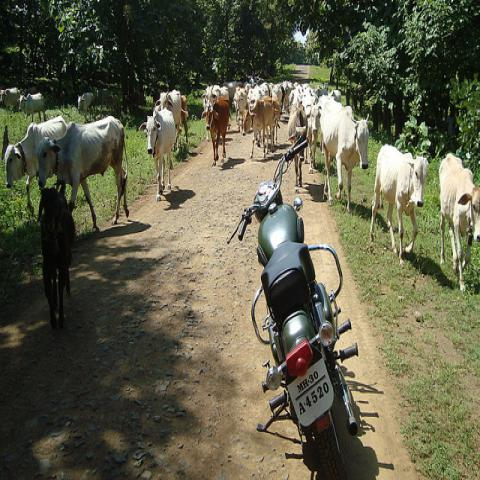motorcycle: (228, 130, 358, 472)
